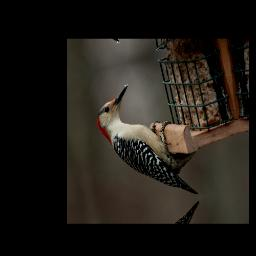Woodpecker: (91, 70, 205, 216)
